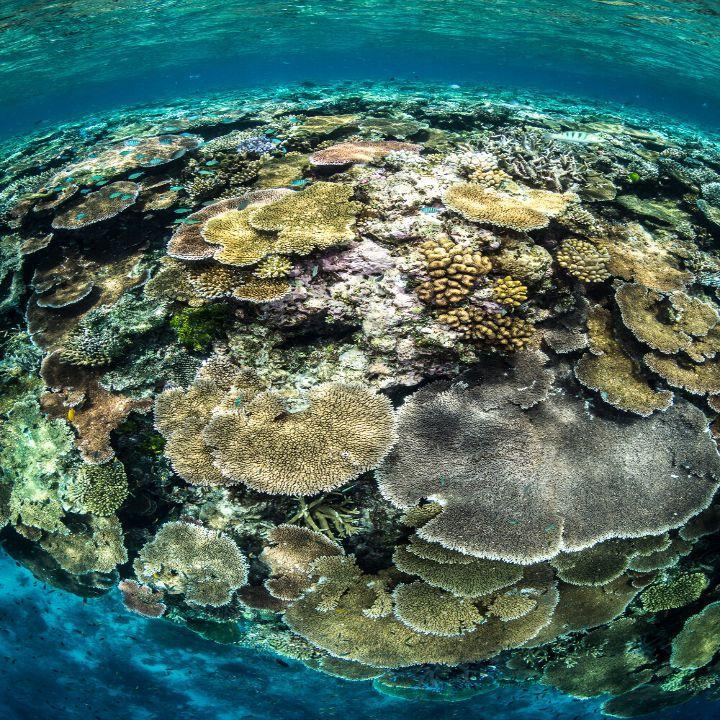Healthy Coral: (22, 146, 694, 666)
